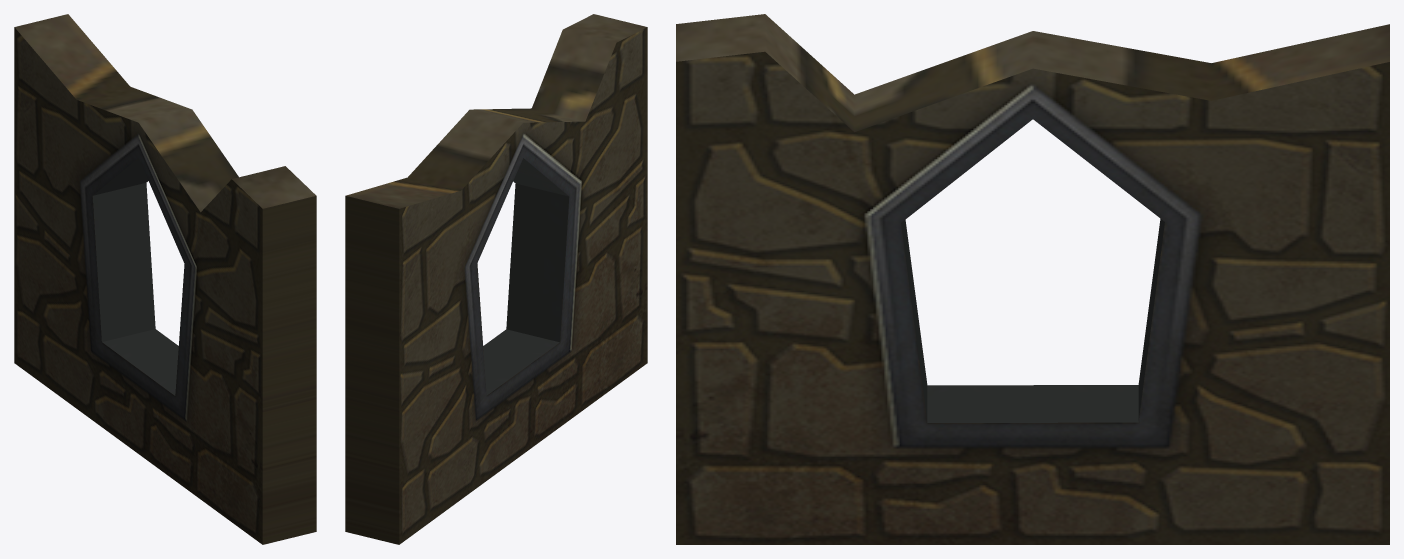
File: pared_ventana.FBX
3 renders of one model, left to right at view 1: azimuth 30°, elevation 25°; view 2: azimuth 150°, elevation 25°; view 3: azimuth 270°, elevation 25°, orthographic. The views are drawn at different scales.
Parts seen in each view (by area): view 1: Box043; view 2: Box043; view 3: Box043.
Part boxes in pixels (bbox=[...]): Box043: bbox=[14, 14, 316, 544]; Box043: bbox=[345, 14, 647, 544]; Box043: bbox=[676, 14, 1389, 544].
Bounding box in the file's own units: 200 × 1220 × 1600.
1 material, 1 textured.
